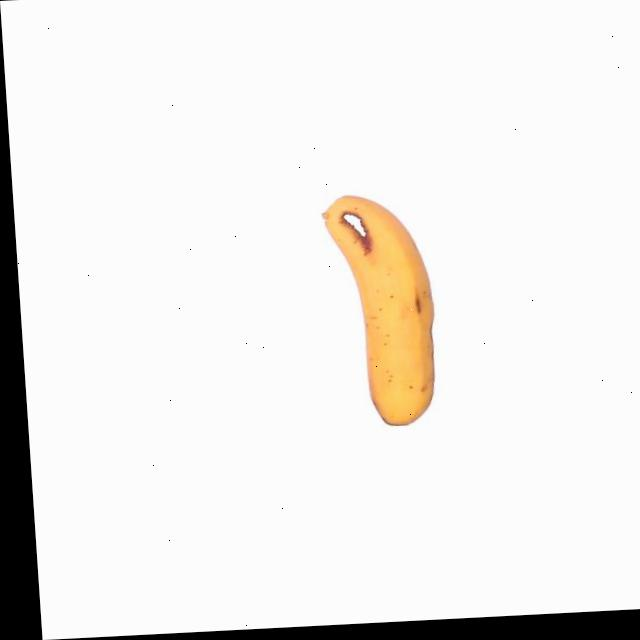banana: (312, 183, 452, 432)
